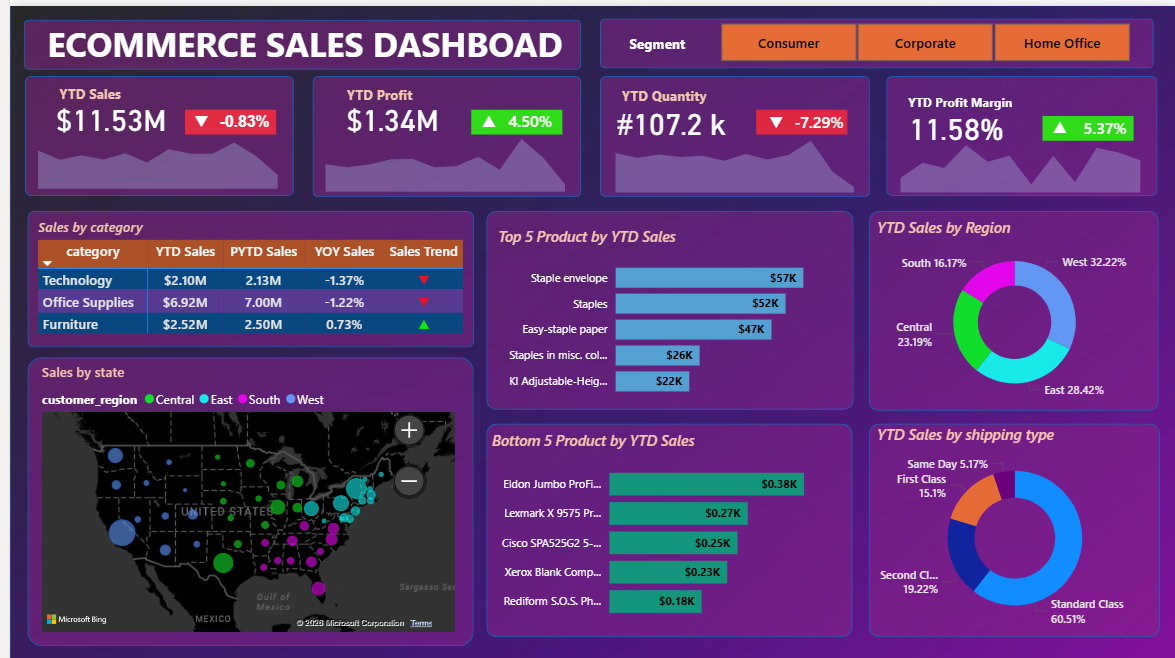

What the dashboard file says about the page in this screenshot:
{"tool":"powerbi","page":{"name":"Page 1","canvas":[1280,720],"ordinal":0},"visuals":[{"type":"shape","box":[15.1,15.1,612,54.9],"z":0},{"type":"textbox","box":[30.2,11,587.3,61.7],"z":1000},{"type":"shape","box":[16.5,76.8,295,131.7],"z":2000},{"type":"shape","box":[192.2,113.5,100,27.2],"z":3000},{"type":"card","fields":{"Values":["ecommerce_details.Sales Icon"]},"box":[169.5,109,80.2,40.9],"z":4000},{"type":"shape","box":[19.7,225.5,490.3,149.8],"z":5000},{"type":"card","fields":{"Values":["ecommerce_details.YTD Sales"]},"box":[37,100.2,148.2,46.7],"z":6000},{"type":"areaChart","fields":{"Category":["calendar.MONTH"],"Y":["Sum(ecommerce_details.sales_per_order)"]},"box":[16.5,127.6,292.3,78.2],"z":7000},{"type":"card","fields":{"Values":["ecommerce_details.YOY Sales"]},"box":[216.4,105.9,81.7,45.4],"z":8000},{"type":"textbox","box":[49.4,81,104.3,46.7],"z":9000},{"type":"shape","box":[332.1,76.8,295,133.1],"z":10000},{"type":"shape","box":[505.9,114,100.2,27.4],"z":11000},{"type":"card","fields":{"Values":["ecommerce_details.Profit Icon"]},"box":[485.8,109,80.2,39.3],"z":12000},{"type":"card","fields":{"Values":["ecommerce_details.YTD Profit"]},"box":[345.8,100.2,148.2,46.7],"z":13000},{"type":"areaChart","fields":{"Category":["calendar.MONTH"],"Y":["Sum(ecommerce_details.profit_per_order)"]},"box":[331.4,130.1,292.1,78.7],"z":14000},{"type":"card","fields":{"Values":["ecommerce_details.YOY Profit"]},"box":[531.2,105.9,80.2,45.4],"z":15000},{"type":"textbox","box":[365,82.3,104.3,46.7],"z":16000},{"type":"shape","box":[647.7,76.8,296.4,133.1],"z":17000},{"type":"shape","box":[819.3,114.4,99.9,27.2],"z":18000},{"type":"card","fields":{"Values":["ecommerce_details.Qty Icon"]},"box":[811.8,115.9,57.5,28.8],"z":19000},{"type":"card","fields":{"Values":["ecommerce_details.YTD concatenated Qty"]},"box":[651.4,103.8,148.3,46.9],"z":20000},{"type":"areaChart","fields":{"Category":["calendar.MONTH"],"Y":["Sum(ecommerce_details.order_quantity)"]},"box":[650.4,131.7,290.9,78.2],"z":21000},{"type":"card","fields":{"Values":["ecommerce_details.YOY Qty"]},"box":[848.1,106.8,80.2,45.4],"z":22000},{"type":"textbox","box":[666.5,84.1,107,34.8],"z":23000},{"type":"shape","box":[961.9,76.8,297.8,131.7],"z":24000},{"type":"shape","box":[1133.2,120.8,99.9,27.2],"z":25000},{"type":"card","fields":{"Values":["ecommerce_details.Profit margin Icon"]},"box":[1124.4,121.1,57.5,28.8],"z":26000},{"type":"card","fields":{"Values":["ecommerce_details.YTD Profit margin"]},"box":[965.2,110.2,148.3,46.9],"z":27000},{"type":"areaChart","fields":{"Category":["calendar.MONTH"],"Y":["ecommerce_details.Profit margin"]},"box":[963.3,130.4,292.3,79.6],"z":28000},{"type":"card","fields":{"Values":["ecommerce_details.YOY Profit margin"]},"box":[1162,113.2,80.2,45.4],"z":29000},{"type":"textbox","box":[980.7,92.3,138,34.8],"z":30000},{"type":"pivotTable","title":"Sales by category","fields":{"Rows":["ecommerce_details.category_name"],"Values":["ecommerce_details.YTD Sales","ecommerce_details.PYTD Sales","ecommerce_details.YOY Sales","ecommerce_details.Sales Icon"]},"box":[25.7,231.5,479.7,139.2],"z":31000},{"type":"shape","box":[19.2,385.6,489.9,317],"z":32000},{"type":"map","title":"Sales by state","fields":{"Y":["us_state_long_lat_codes.latitude"],"X":["us_state_long_lat_codes.longitude"],"Size":["ecommerce_details.YTD Sales"],"Series":["ecommerce_details.customer_region"]},"box":[30.8,390.8,463.1,301.5],"z":33000},{"type":"shape","box":[522.8,225,403.4,218.2],"z":34000},{"type":"barChart","title":"Top 5 Product by YTD Sales","fields":{"Category":["ecommerce_details.product_name"],"Y":["ecommerce_details.YTD Sales"]},"box":[531,241.5,391.1,199],"z":35000},{"type":"shape","box":[522.8,458.3,402.1,234.6],"z":36000},{"type":"barChart","title":"Bottom 5 Product by YTD Sales","fields":{"Category":["ecommerce_details.product_name"],"Y":["ecommerce_details.YTD Sales"]},"box":[524.6,464.6,393.8,220],"z":37000},{"type":"shape","box":[942.7,225,318.4,219.6],"z":38000},{"type":"donutChart","title":"YTD Sales by Region","fields":{"Category":["ecommerce_details.customer_region"],"Y":["ecommerce_details.YTD Sales"]},"box":[946.2,232.3,312.3,209.2],"z":39000},{"type":"shape","box":[942.7,458.3,319.7,234.6],"z":40000},{"type":"donutChart","title":"YTD Sales by shipping type","fields":{"Y":["ecommerce_details.YTD Sales"],"Category":["ecommerce_details.shipping_type"]},"box":[946.8,458.3,312.9,230.5],"z":41000},{"type":"shape","box":[647.7,13.7,607.9,54.9],"z":42000},{"type":"slicer","fields":{"Values":["ecommerce_details.customer_segment"]},"box":[755.4,12.3,498.5,55.4],"z":43000},{"type":"textbox","box":[675.1,26.1,85.1,39.8],"z":44000}]}

Visuals, with their boxes in screenshot pixels (x1, y1, x2, y2), scaled from the page's 1280x720 canvas onto the 1175x658 screenshot:
shape: bbox(14, 14, 576, 64)
textbox: bbox(28, 10, 567, 66)
shape: bbox(15, 70, 286, 191)
shape: bbox(176, 104, 268, 129)
card - ecommerce_details.Sales Icon: bbox(156, 100, 229, 137)
shape: bbox(18, 206, 468, 343)
card - ecommerce_details.YTD Sales: bbox(34, 92, 170, 134)
areaChart - calendar.MONTH x Sum(ecommerce_details.sales_per_order): bbox(15, 117, 283, 188)
card - ecommerce_details.YOY Sales: bbox(199, 97, 274, 138)
textbox: bbox(45, 74, 141, 117)
shape: bbox(305, 70, 576, 192)
shape: bbox(464, 104, 556, 129)
card - ecommerce_details.Profit Icon: bbox(446, 100, 520, 136)
card - ecommerce_details.YTD Profit: bbox(317, 92, 453, 134)
areaChart - calendar.MONTH x Sum(ecommerce_details.profit_per_order): bbox(304, 119, 572, 191)
card - ecommerce_details.YOY Profit: bbox(488, 97, 561, 138)
textbox: bbox(335, 75, 431, 118)
shape: bbox(595, 70, 867, 192)
shape: bbox(752, 105, 844, 129)
card - ecommerce_details.Qty Icon: bbox(745, 106, 798, 132)
card - ecommerce_details.YTD concatenated Qty: bbox(598, 95, 734, 138)
areaChart - calendar.MONTH x Sum(ecommerce_details.order_quantity): bbox(597, 120, 864, 192)
card - ecommerce_details.YOY Qty: bbox(779, 98, 852, 139)
textbox: bbox(612, 77, 710, 109)
shape: bbox(883, 70, 1156, 191)
shape: bbox(1040, 110, 1132, 135)
card - ecommerce_details.Profit margin Icon: bbox(1032, 111, 1085, 137)
card - ecommerce_details.YTD Profit margin: bbox(886, 101, 1022, 144)
areaChart - calendar.MONTH x ecommerce_details.Profit margin: bbox(884, 119, 1153, 192)
card - ecommerce_details.YOY Profit margin: bbox(1067, 103, 1140, 145)
textbox: bbox(900, 84, 1027, 116)
"Sales by category" pivotTable: bbox(24, 212, 464, 339)
shape: bbox(18, 352, 467, 642)
"Sales by state" map: bbox(28, 357, 453, 633)
shape: bbox(480, 206, 850, 405)
"Top 5 Product by YTD Sales" barChart: bbox(487, 221, 846, 403)
shape: bbox(480, 419, 849, 633)
"Bottom 5 Product by YTD Sales" barChart: bbox(482, 425, 843, 626)
shape: bbox(865, 206, 1158, 406)
"YTD Sales by Region" donutChart: bbox(869, 212, 1155, 403)
shape: bbox(865, 419, 1159, 633)
"YTD Sales by shipping type" donutChart: bbox(869, 419, 1156, 629)
shape: bbox(595, 13, 1153, 63)
slicer - ecommerce_details.customer_segment: bbox(693, 11, 1151, 62)
textbox: bbox(620, 24, 698, 60)
